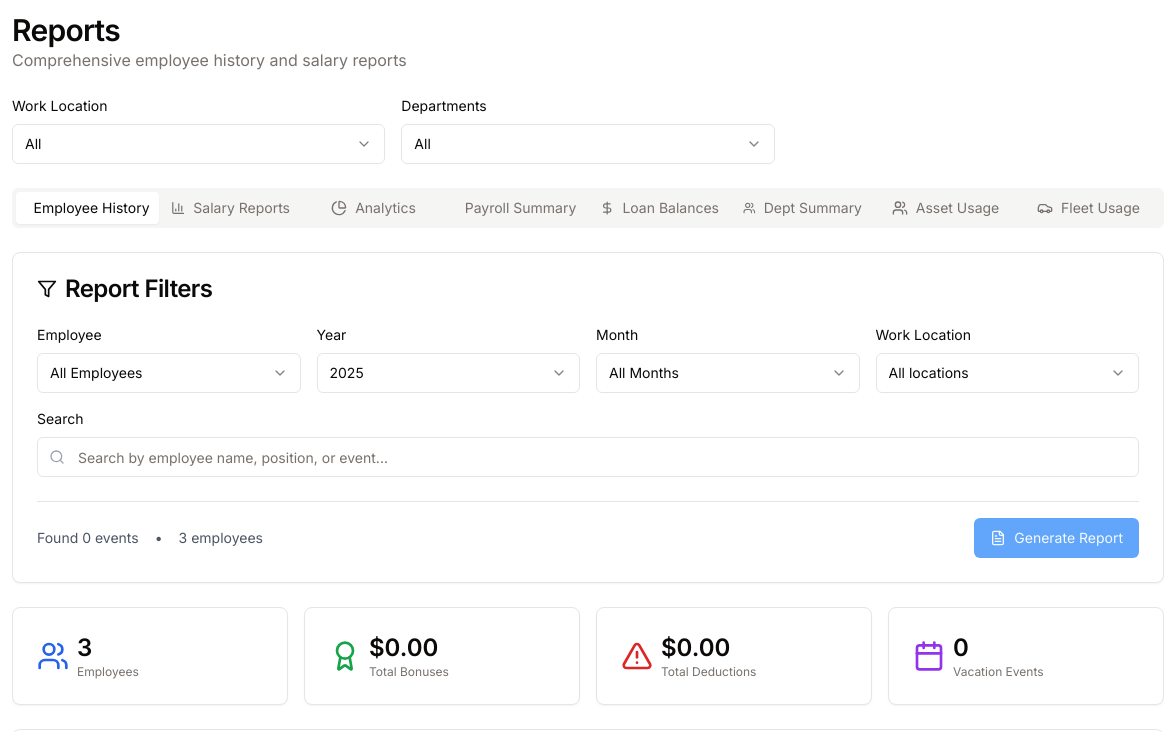
Test: Reports page - assignment usage filtering › shows only asset assignments overlapping the selected date range
The image size is (1164, 732).
Click the tab "Asset Usage".
click(946, 208)  # box [874, 192, 1017, 224]
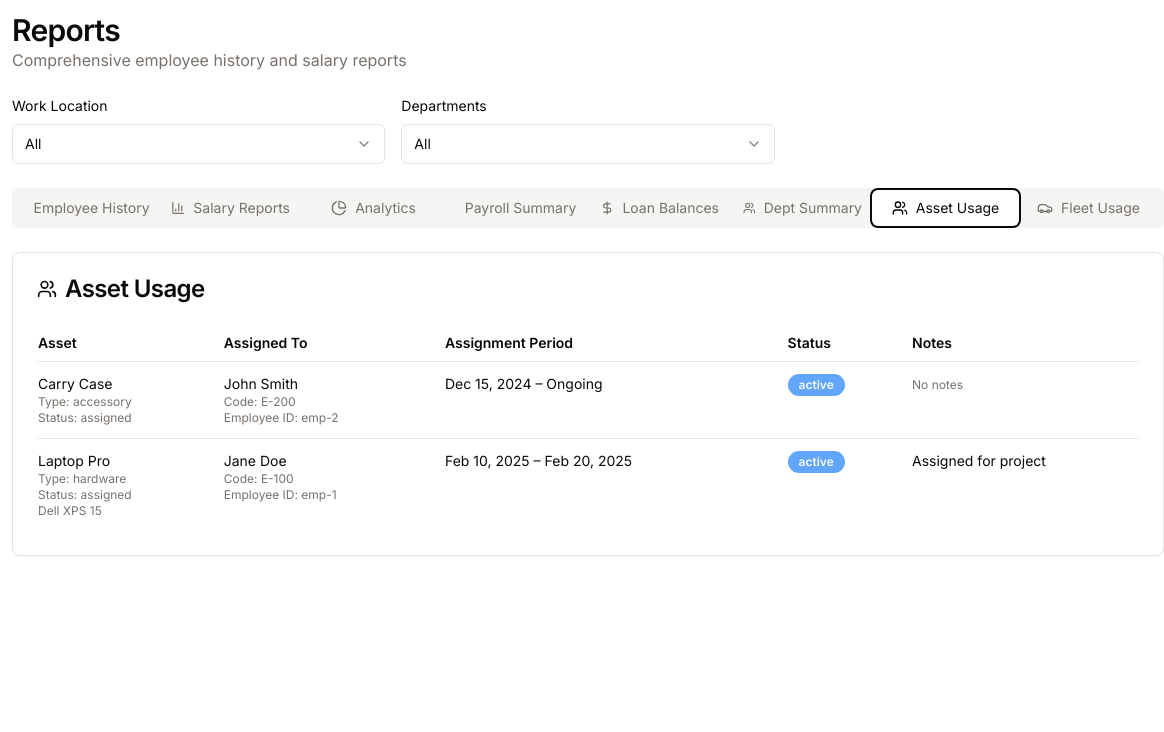
Result: the text "Laptop Pro" is shown at [38, 452, 110, 469]
Result: the text "Carry Case" is shown at [38, 375, 112, 392]
